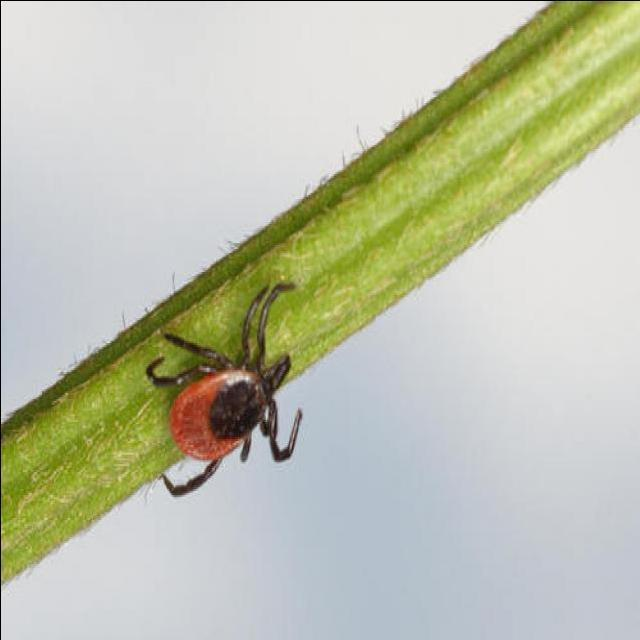Ixodes Ricinus-F: (145, 281, 301, 496)
